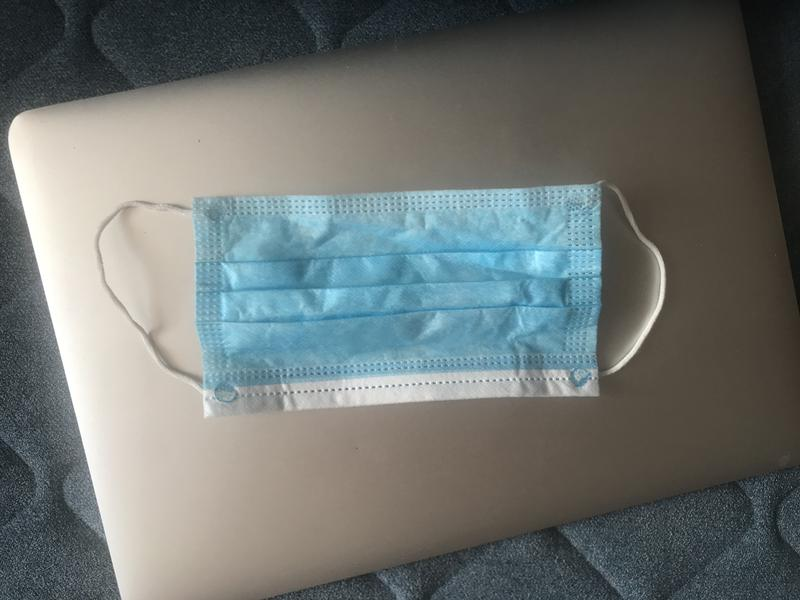medical_mask: (93, 176, 666, 414)
